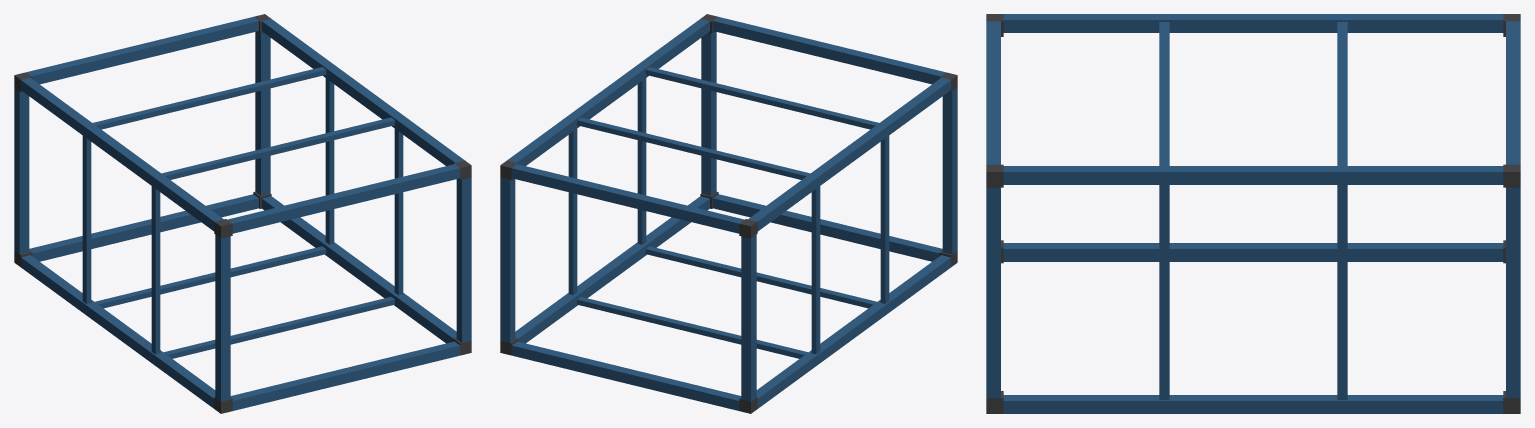
The model's file is hold100_frame.obj.
The picture shows the model from 3 angles, left to right: view 1: azimuth 30°, elevation 25°; view 2: azimuth 150°, elevation 25°; view 3: azimuth 270°, elevation 25°; orthographic projection. The views are drawn at different scales.
Visible parts, largest first — view 1: hold100_frame; view 2: hold100_frame; view 3: hold100_frame.
Part boxes in pixels (x1,y1,x2,y2): hold100_frame: [14, 14, 471, 413]; hold100_frame: [500, 14, 957, 413]; hold100_frame: [986, 14, 1520, 413].
Bounding box in the file's own units: 5.19 × 3.71 × 7.42.
